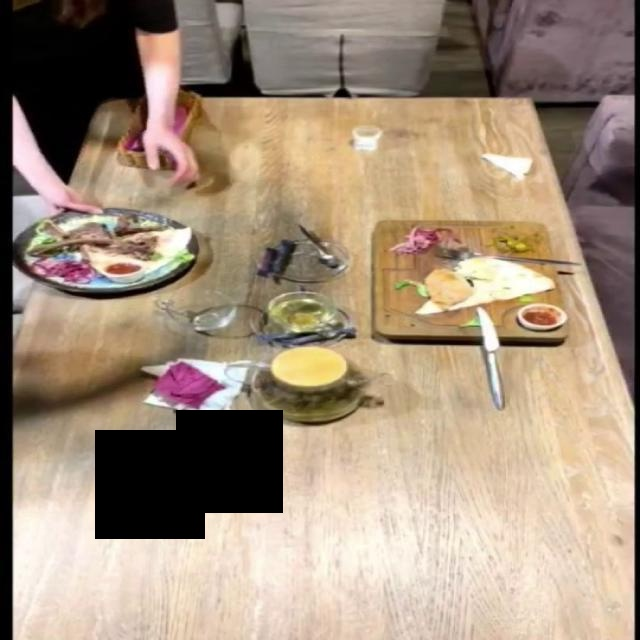meat: (360, 216, 569, 348), (27, 213, 203, 293)
tea: (259, 360, 365, 419)
